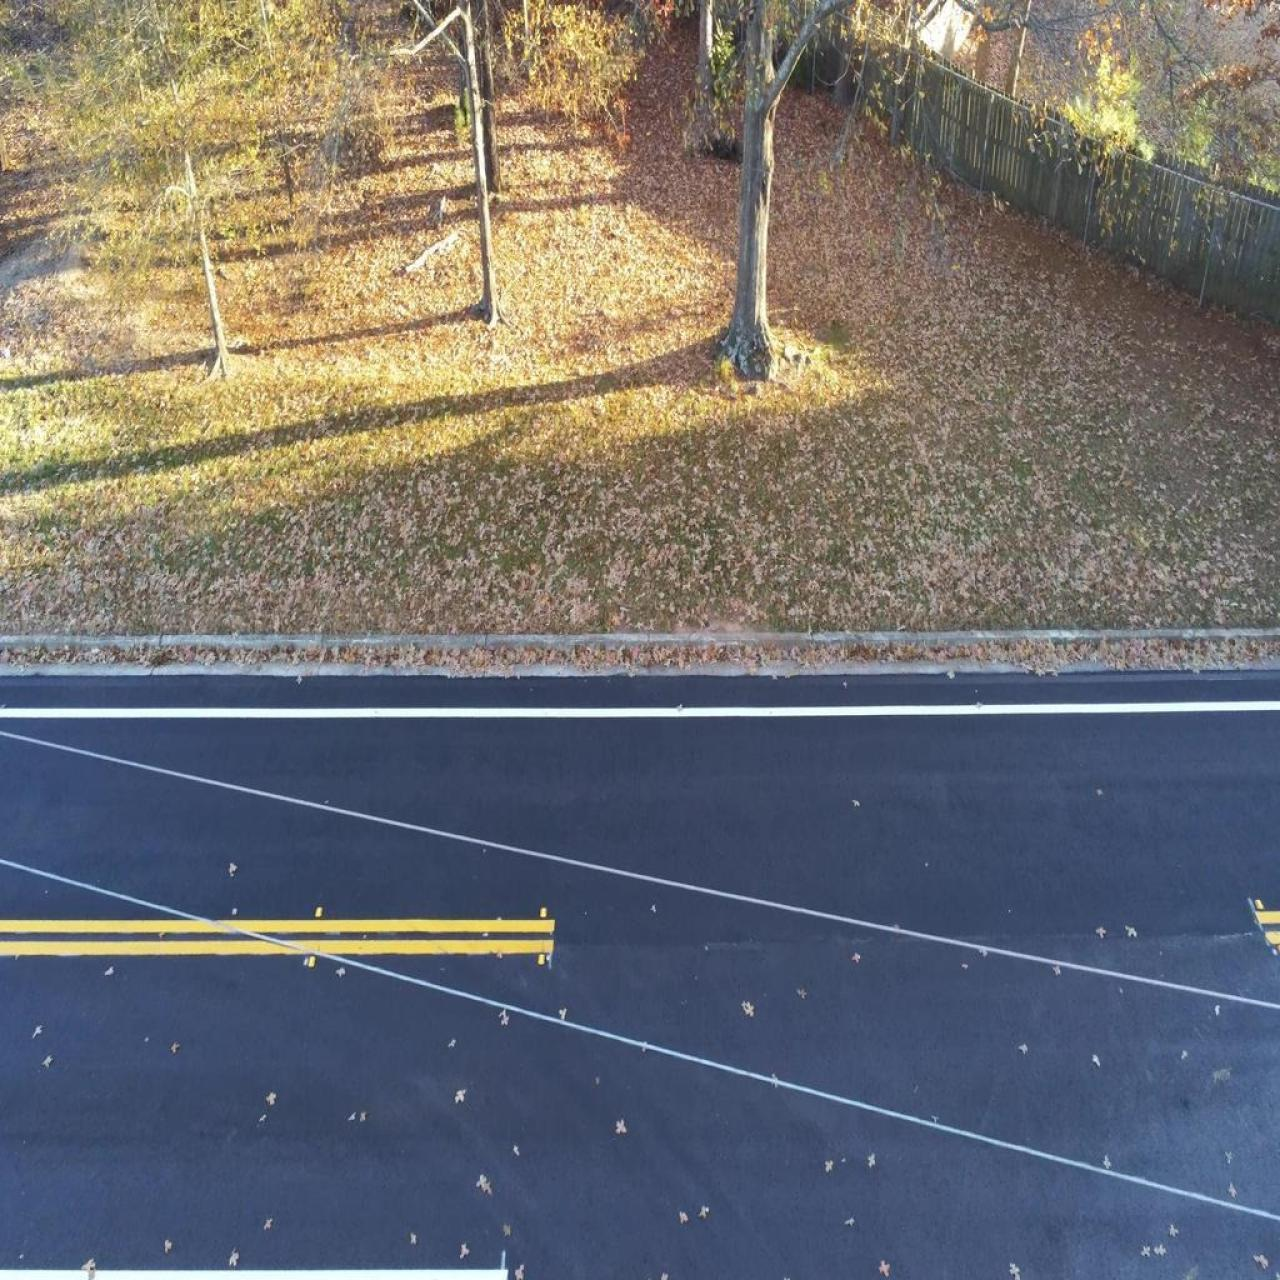cable: (0, 858, 1279, 1223), (0, 729, 1278, 1010)
